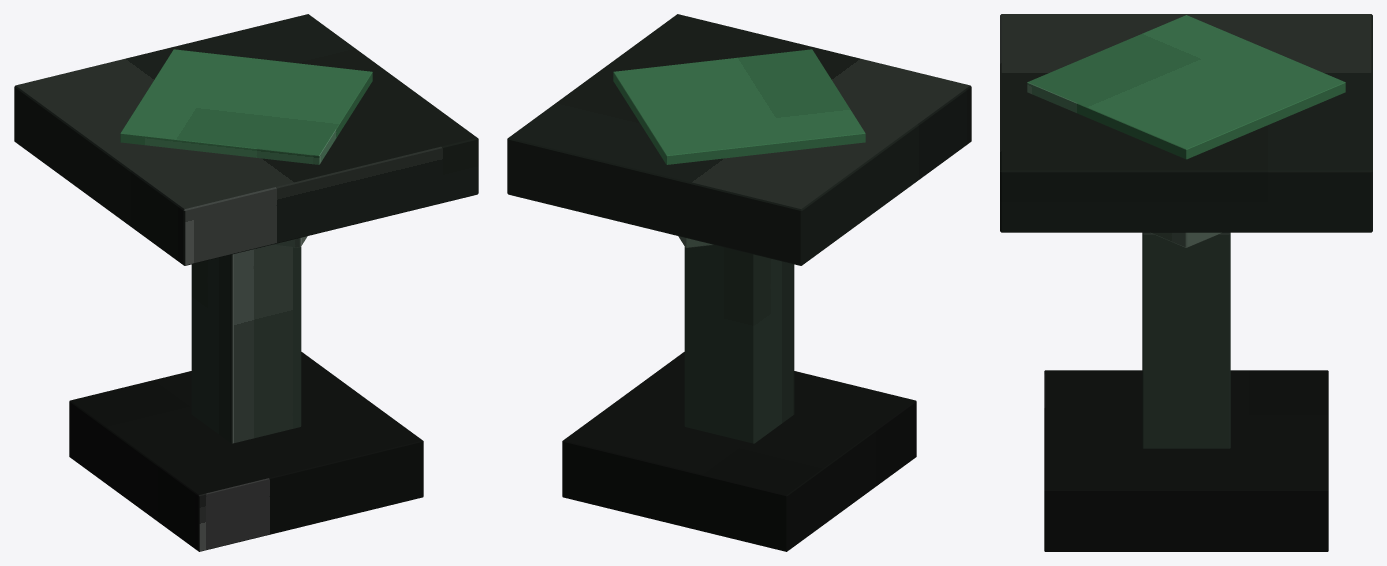
Rendered from gothic_pedestal_table.glb.
3 views of the same model, side by side, from view 1: azimuth 30°, elevation 25°; view 2: azimuth 150°, elevation 25°; view 3: azimuth 270°, elevation 25° (orthographic). The views are drawn at different scales.
Parts seen in each view (by area): view 1: PedestalTop, PedestalBase, TopInlay, PedestalStem; view 2: PedestalTop, PedestalBase, TopInlay, PedestalStem; view 3: PedestalTop, PedestalBase, TopInlay, PedestalStem, PedestalCollar.
Boxes of the visible parts, left/top/right/bottom form: PedestalTop: left=14, top=14, right=478, bottom=265; PedestalBase: left=69, top=352, right=423, bottom=551; TopInlay: left=120, top=49, right=372, bottom=164; PedestalStem: left=191, top=245, right=301, bottom=443; PedestalTop: left=507, top=14, right=971, bottom=265; PedestalBase: left=562, top=352, right=916, bottom=551; TopInlay: left=613, top=49, right=865, bottom=164; PedestalStem: left=684, top=245, right=794, bottom=443; PedestalTop: left=1000, top=14, right=1372, bottom=232; PedestalBase: left=1044, top=370, right=1328, bottom=551; TopInlay: left=1027, top=15, right=1345, bottom=159; PedestalStem: left=1142, top=232, right=1230, bottom=448; PedestalCollar: left=1150, top=232, right=1222, bottom=247.
Bounding box in the file's own units: 0.76 × 0.9225 × 0.76.
1 material, 1 textured.
